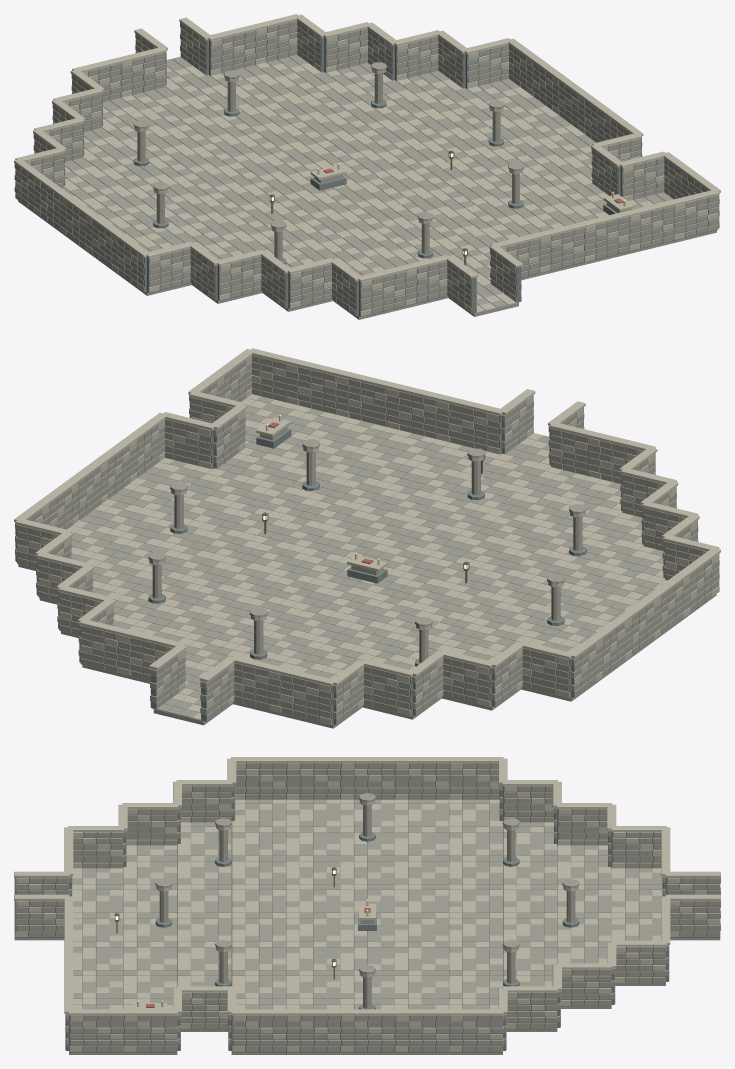
File: tv_19_03_tower_hall.glb
3 views of the same model, one above another, from view 1: azimuth 30°, elevation 25°; view 2: azimuth 150°, elevation 25°; view 3: azimuth 270°, elevation 25° (orthographic). The views are drawn at different scales.
Parts seen in each view (by area): view 1: wall_0120, wall_0130, wall_0142, wall_0124, wall_0137, wall_0131, wall_0134, wall_0112, wall_0116, wall_0105, wall_0136, wall_0144 (+126 smaller); view 2: wall_0121, wall_0129, wall_0133, wall_0131, wall_0134, wall_0137, wall_0123, wall_0109, wall_0113, wall_0117, wall_0146, wall_0124 (+129 smaller); view 3: wall_0145, wall_0141, wall_0143, wall_0148, wall_0149, wall_0147, wall_0150, wall_0108, wall_0106, wall_0139, wall_0107, wall_0132 (+103 smaller).
Boxes of the visible parts, left/top/right/bottom form: wall_0120: left=357, top=266, right=406, bottom=316; wall_0130: left=208, top=25, right=255, bottom=75; wall_0142: left=671, top=190, right=719, bottom=240; wall_0124: left=118, top=47, right=166, bottom=97; wall_0137: left=626, top=200, right=674, bottom=251; wall_0131: left=536, top=222, right=585, bottom=273; wall_0134: left=581, top=211, right=629, bottom=262; wall_0112: left=217, top=250, right=263, bottom=300; wall_0116: left=286, top=258, right=334, bottom=308; wall_0105: left=146, top=242, right=193, bottom=292; wall_0136: left=323, top=22, right=369, bottom=72; wall_0144: left=619, top=151, right=665, bottom=200; wall_0121: left=280, top=668, right=335, bottom=725; wall_0129: left=449, top=397, right=502, bottom=454; wall_0133: left=79, top=620, right=134, bottom=676; wall_0131: left=398, top=385, right=453, bottom=442; wall_0134: left=348, top=373, right=403, bottom=429; wall_0137: left=298, top=360, right=352, bottom=417; wall_0123: left=549, top=422, right=603, bottom=478; wall_0109: left=519, top=641, right=571, bottom=698; wall_0113: left=439, top=650, right=493, bottom=707; wall_0117: left=360, top=659, right=414, bottom=716; wall_0146: left=161, top=412, right=213, bottom=469; wall_0124: left=231, top=655, right=284, bottom=713; wall_0145: left=231, top=1009, right=286, bottom=1052; wall_0141: left=68, top=1009, right=123, bottom=1052; wall_0143: left=123, top=1009, right=178, bottom=1052; wall_0148: left=340, top=1009, right=395, bottom=1052; wall_0149: left=394, top=1009, right=449, bottom=1052; wall_0147: left=286, top=1009, right=340, bottom=1052; wall_0150: left=448, top=1009, right=503, bottom=1052; wall_0108: left=394, top=757, right=449, bottom=799; wall_0106: left=286, top=757, right=340, bottom=799; wall_0139: left=502, top=986, right=558, bottom=1029; wall_0107: left=340, top=757, right=395, bottom=799; wall_0132: left=611, top=940, right=666, bottom=983.
Size of the model in its own units: 44.67 by 3.77 by 52.11.
